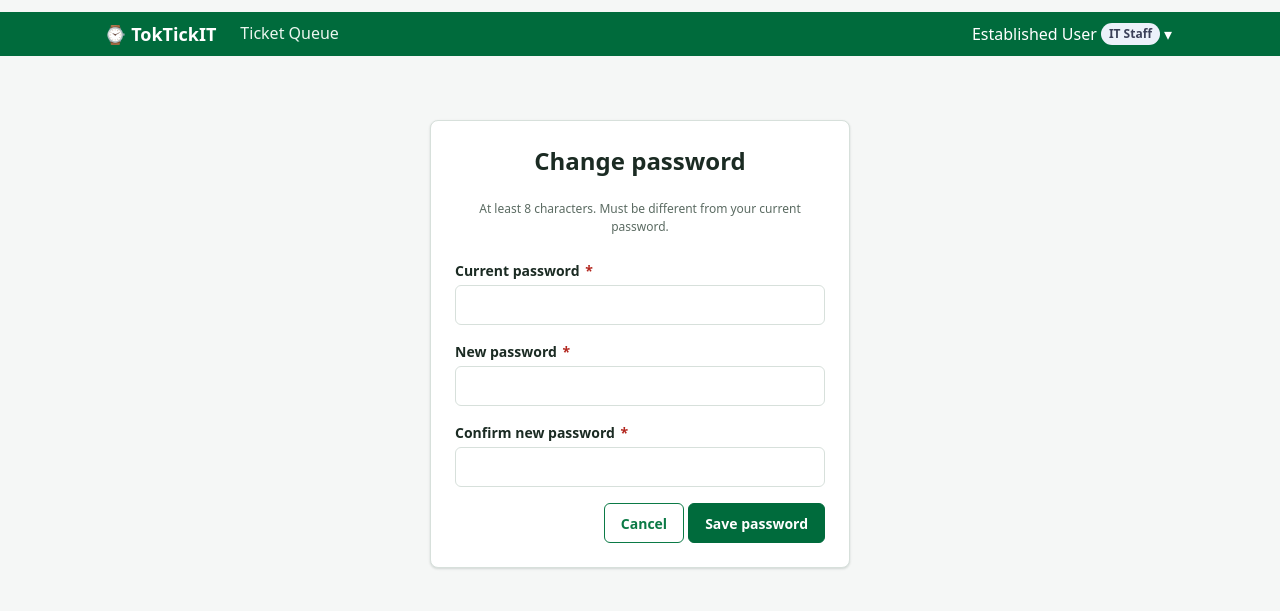
Scenario: voluntary mode (mustChangePassword: false) › rejects a submit with a blank current password
Expected: the password field labelled "Current password *" is shown, [455,285,825,325]
Type "BrandNewPassword1" into the password field labelled "New password *" at (640, 386), box [455,366,825,406]
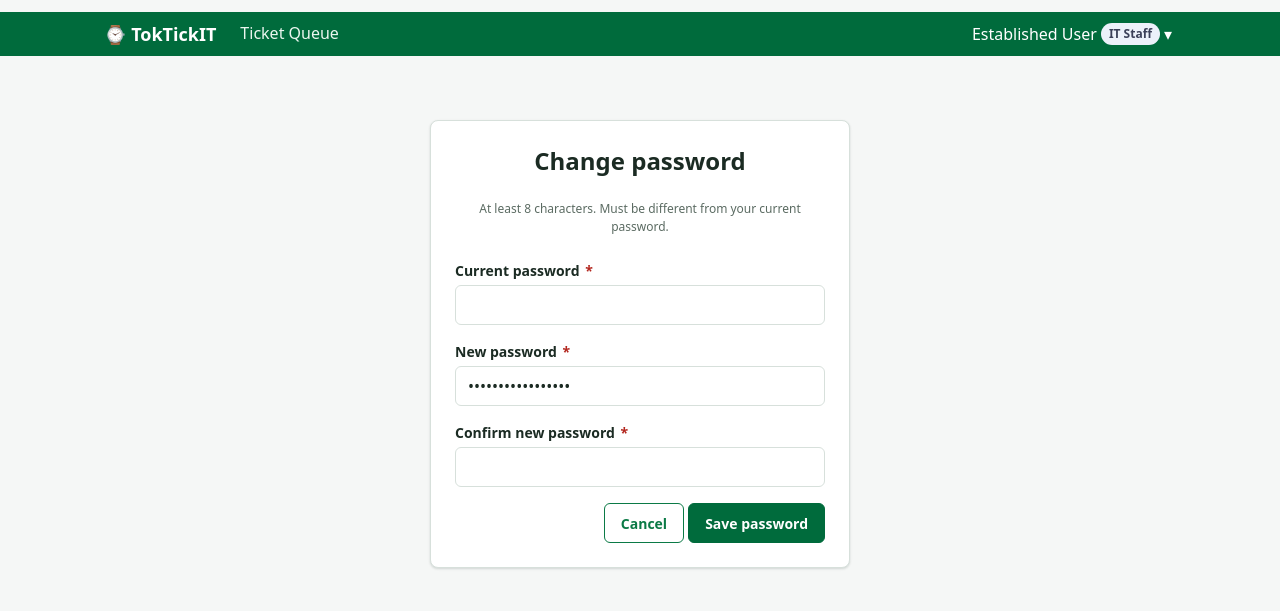
Type "BrandNewPassword1" into the password field labelled "Confirm new password *" at (640, 467), box [455,447,825,487]
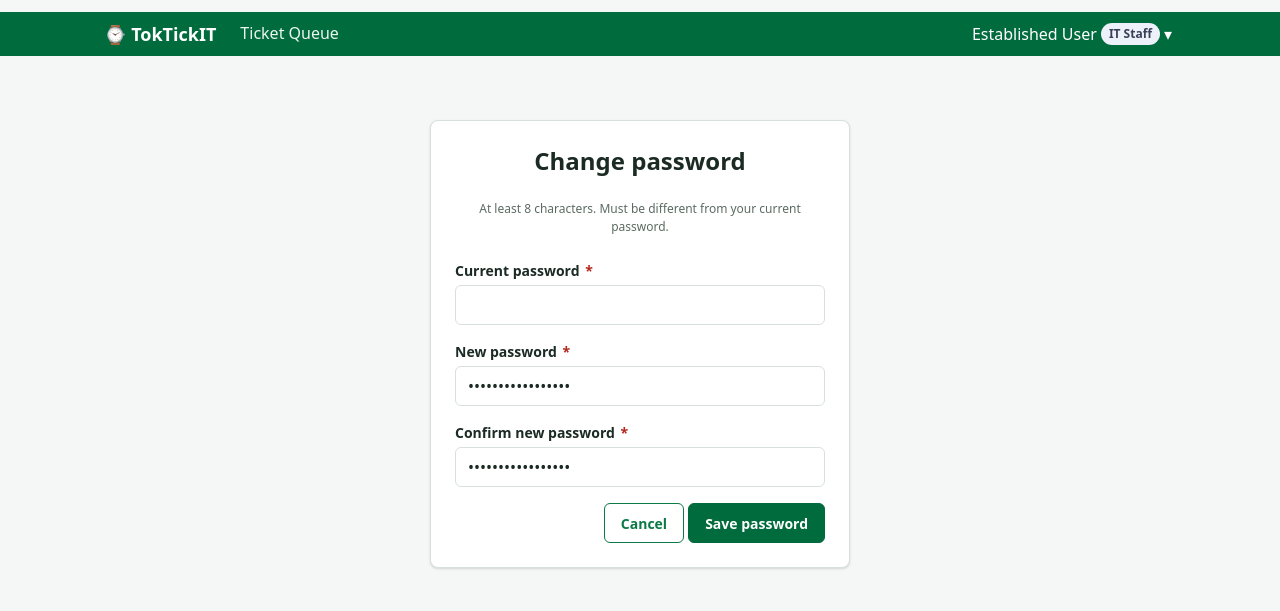
Click the button "Save password" at (757, 523), box [688,503,825,543]
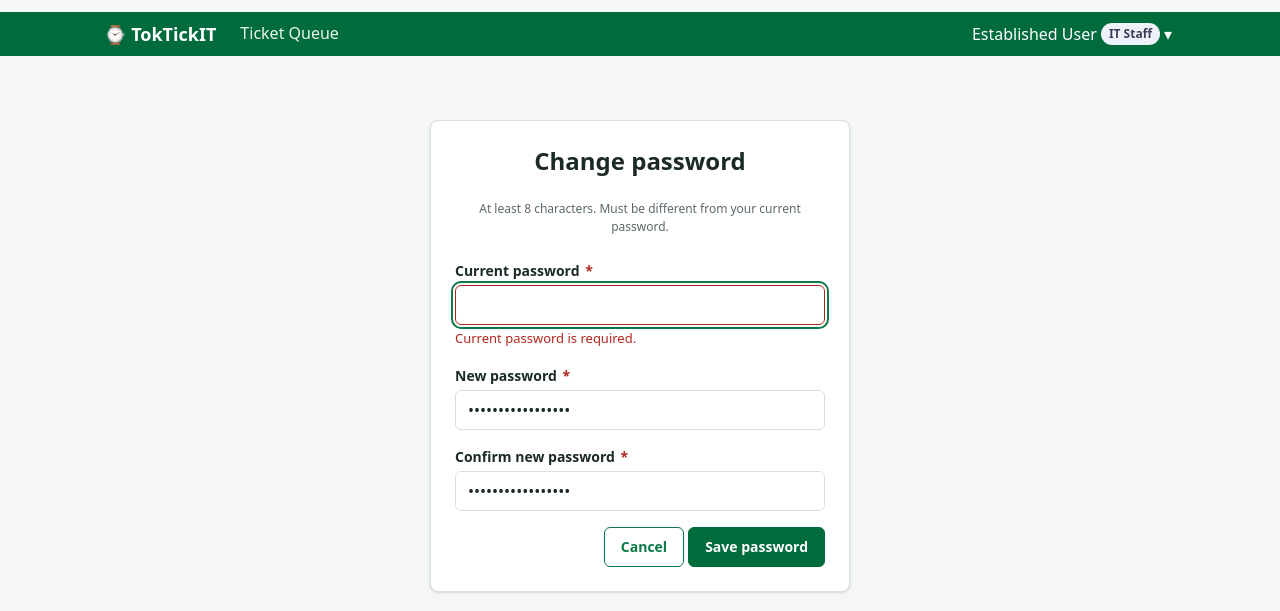
Expected: the text "Current password is required." is shown, [455,329,636,347]
